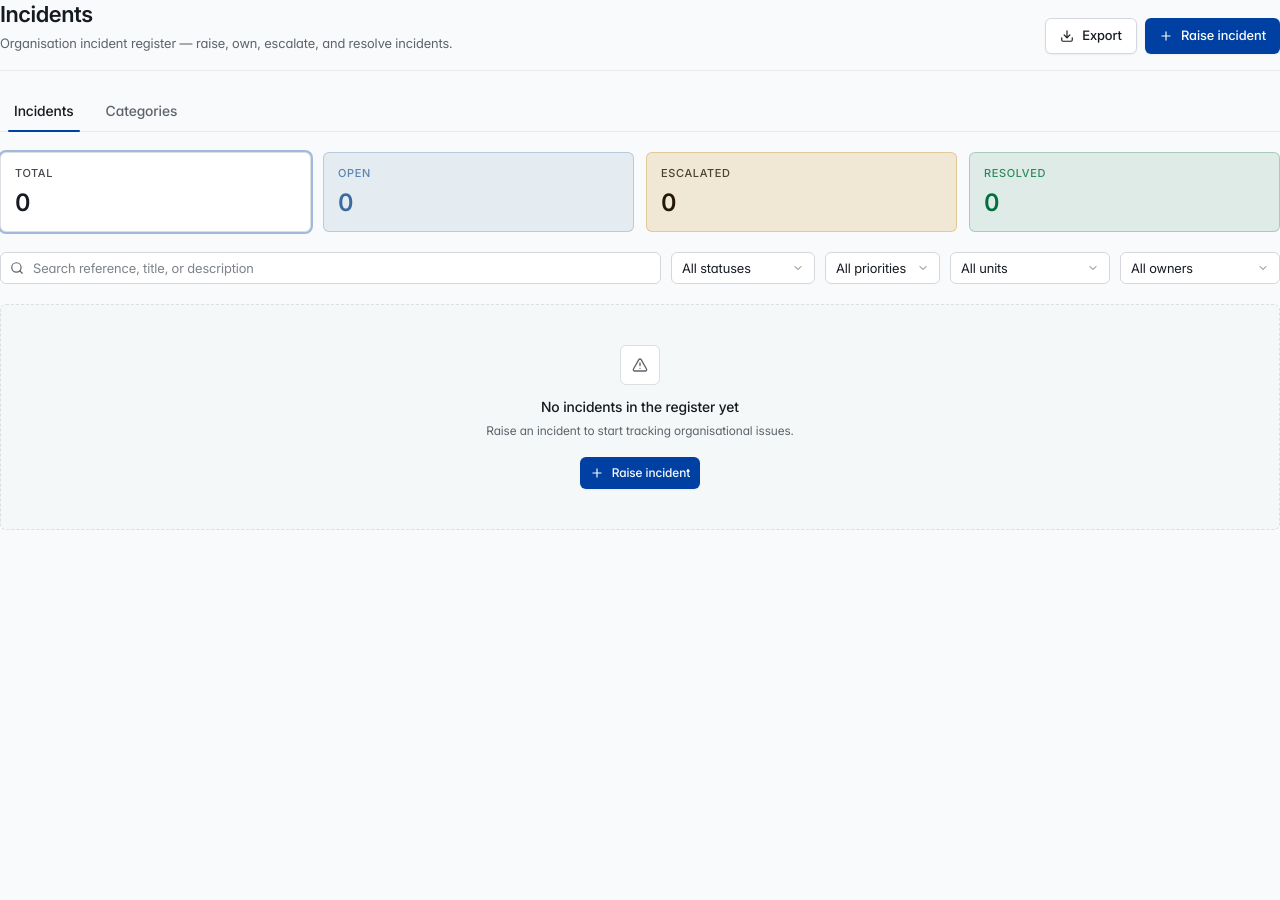
IncidentsListPage › opens create sheet from Raise incident
expect the text "No incidents in the register yet" is shown: met, box [541,398,739,415]
Click the 1st button "Raise incident".
click(1212, 36)  # box [1145,18,1279,54]
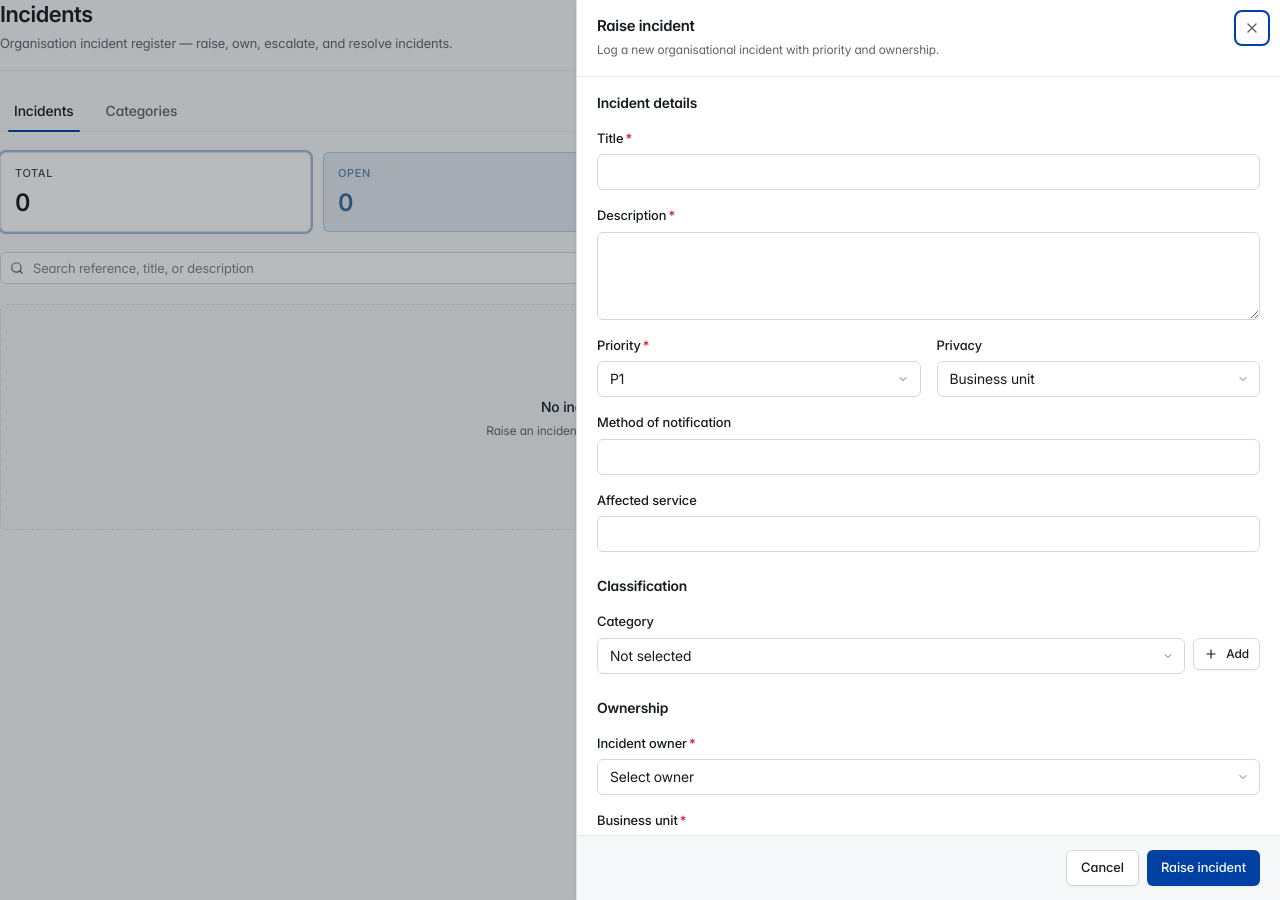
expect the heading "Raise incident" is shown: met, box [597,16,695,35]
expect the text "Title*" is shown: met, box [597,130,632,146]
